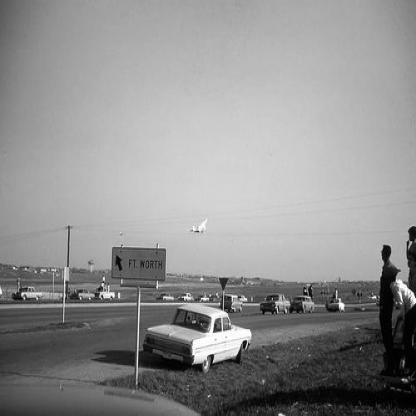XB70: (187, 217, 211, 236)
